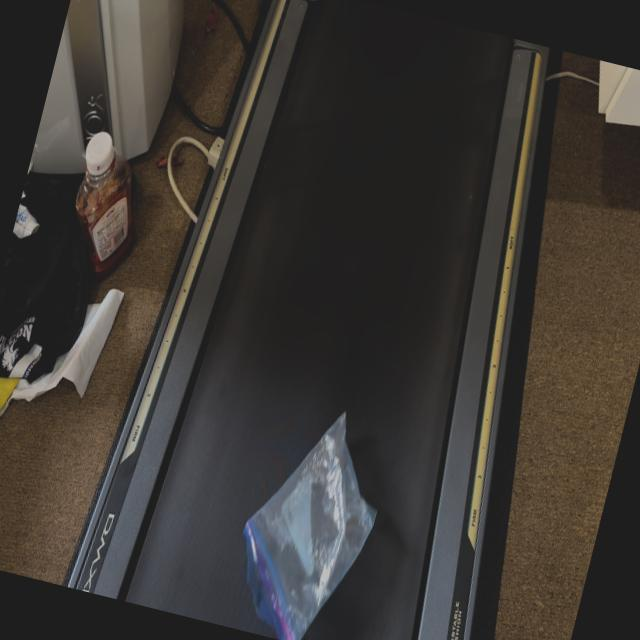Trash: (199, 373, 420, 640)
